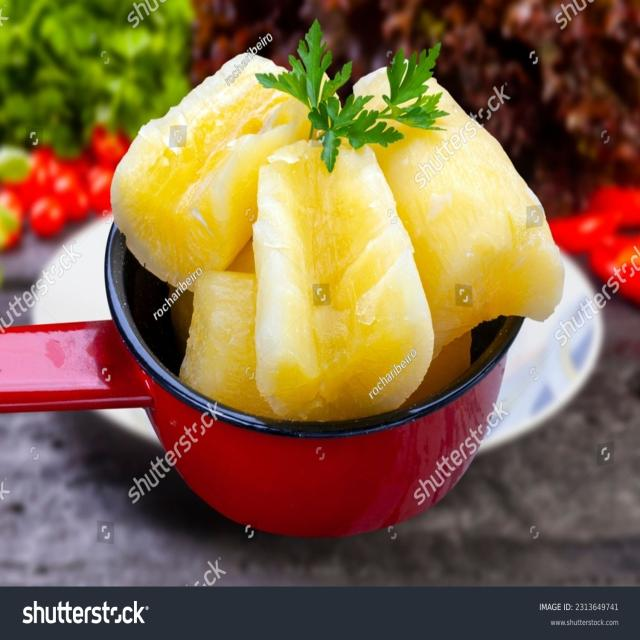yuca: (243, 130, 440, 432)
